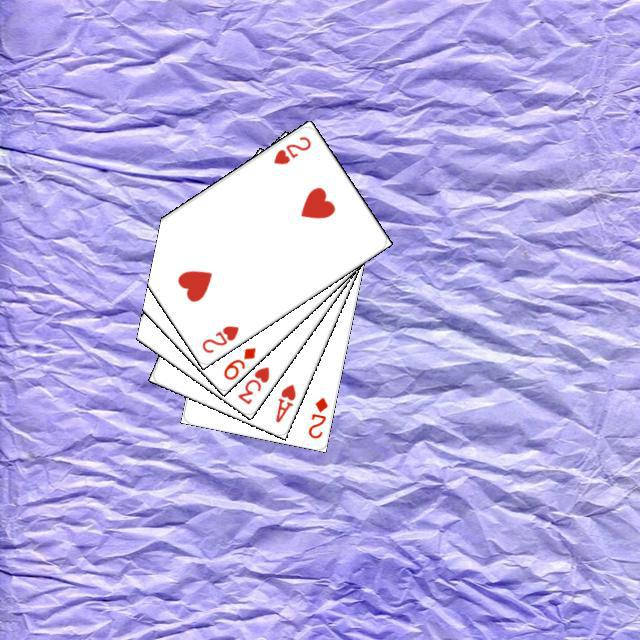2d: (303, 392, 330, 440)
2h: (268, 131, 313, 166), (197, 320, 241, 355)
3h: (233, 362, 271, 406)
9d: (218, 342, 257, 382)
Ah: (270, 379, 298, 424)
